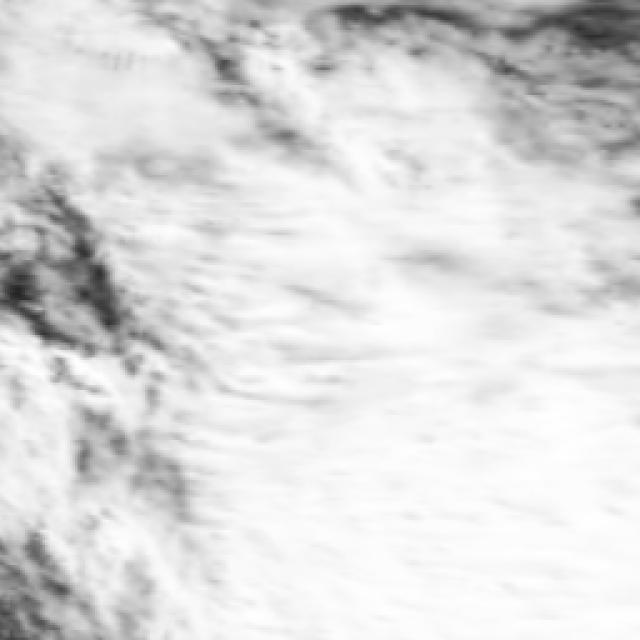CB: (323, 335, 618, 610)
